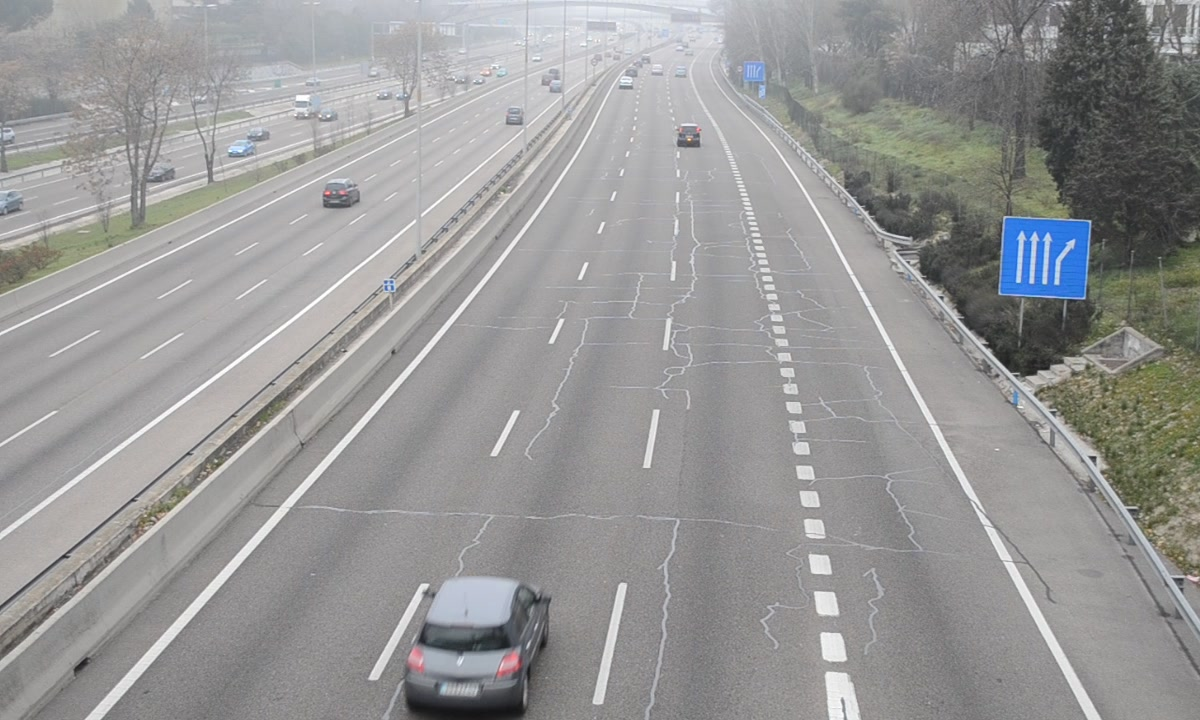car: (406, 577, 551, 709), (676, 122, 703, 148)
